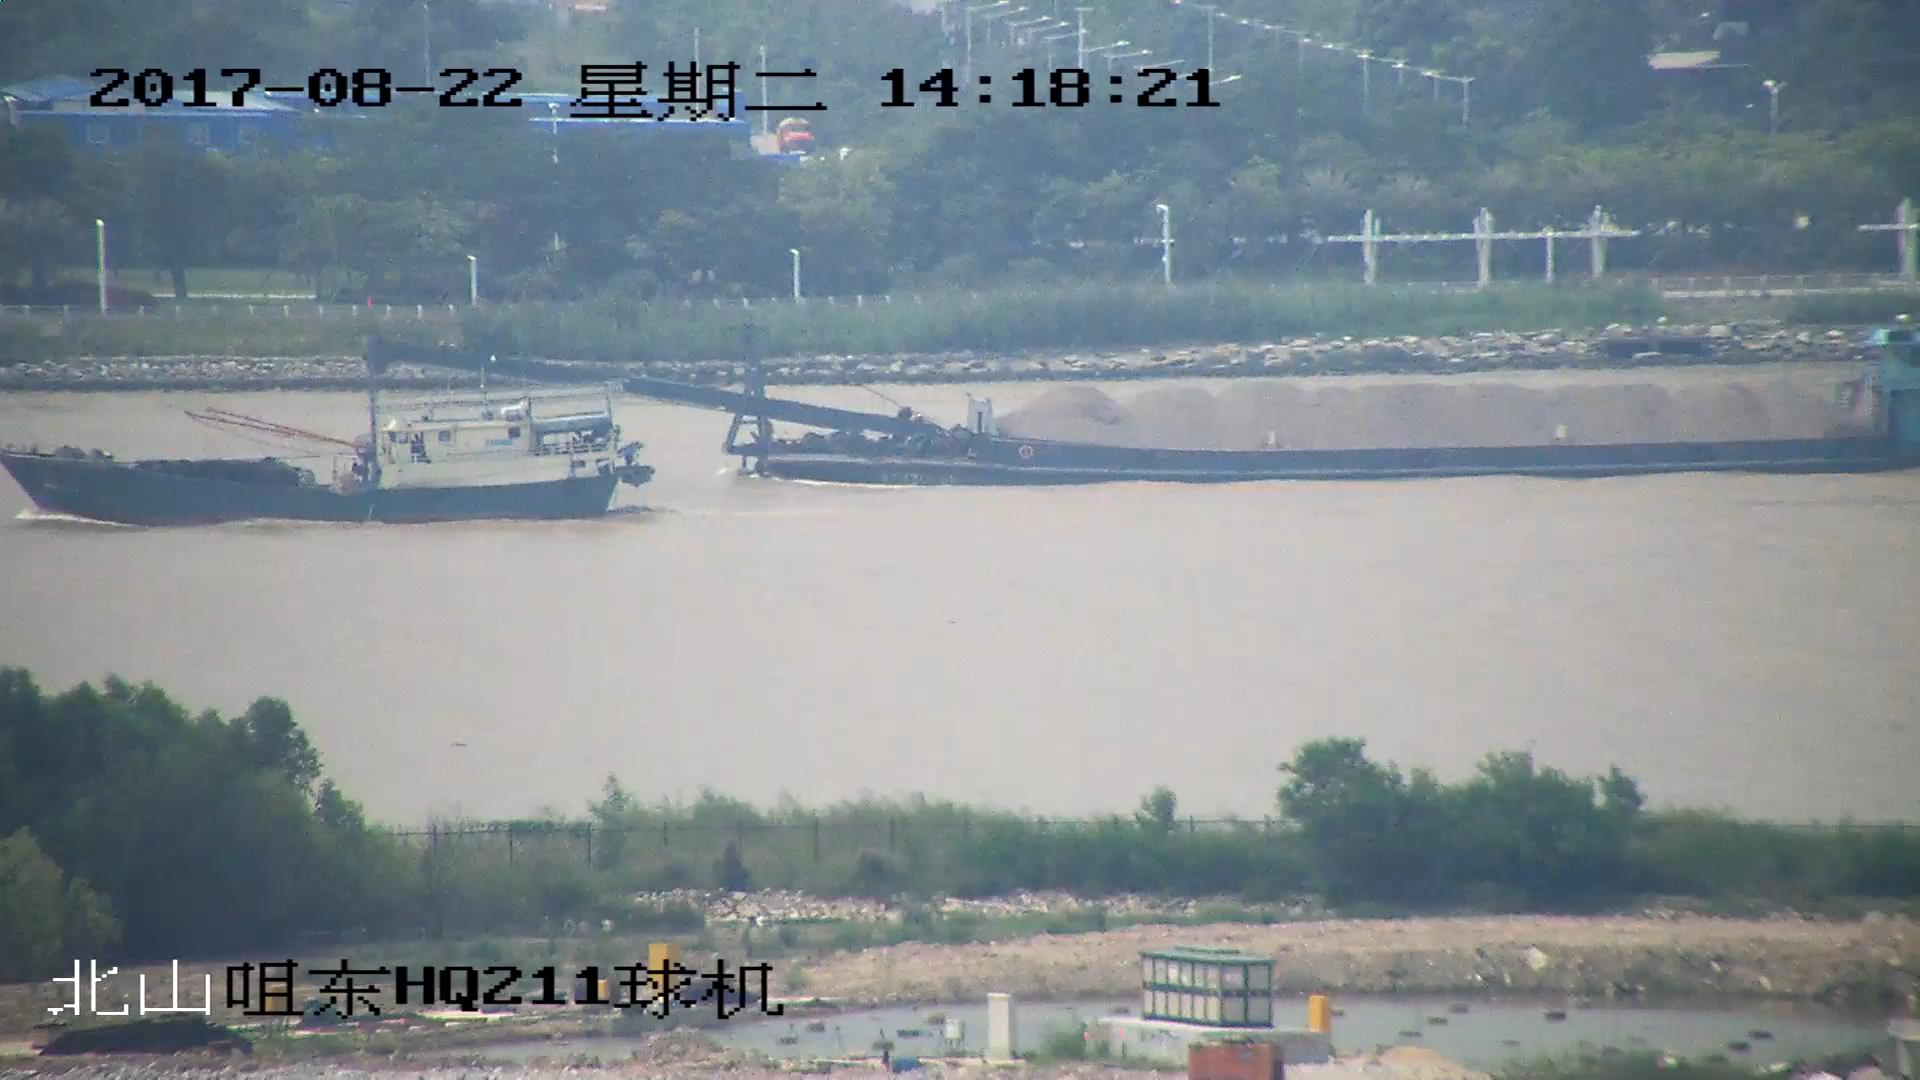fishing boat: (1, 299, 657, 525)
ore carrier: (368, 334, 1920, 484)
